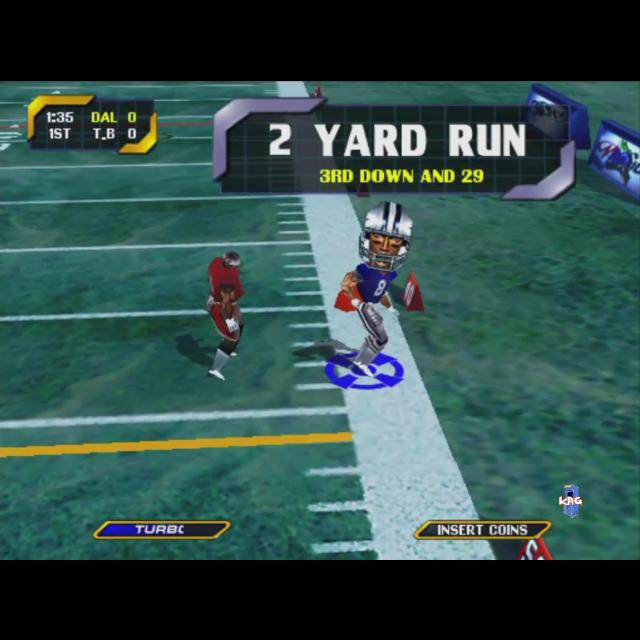player: (332, 199, 413, 377), (204, 250, 243, 380)
